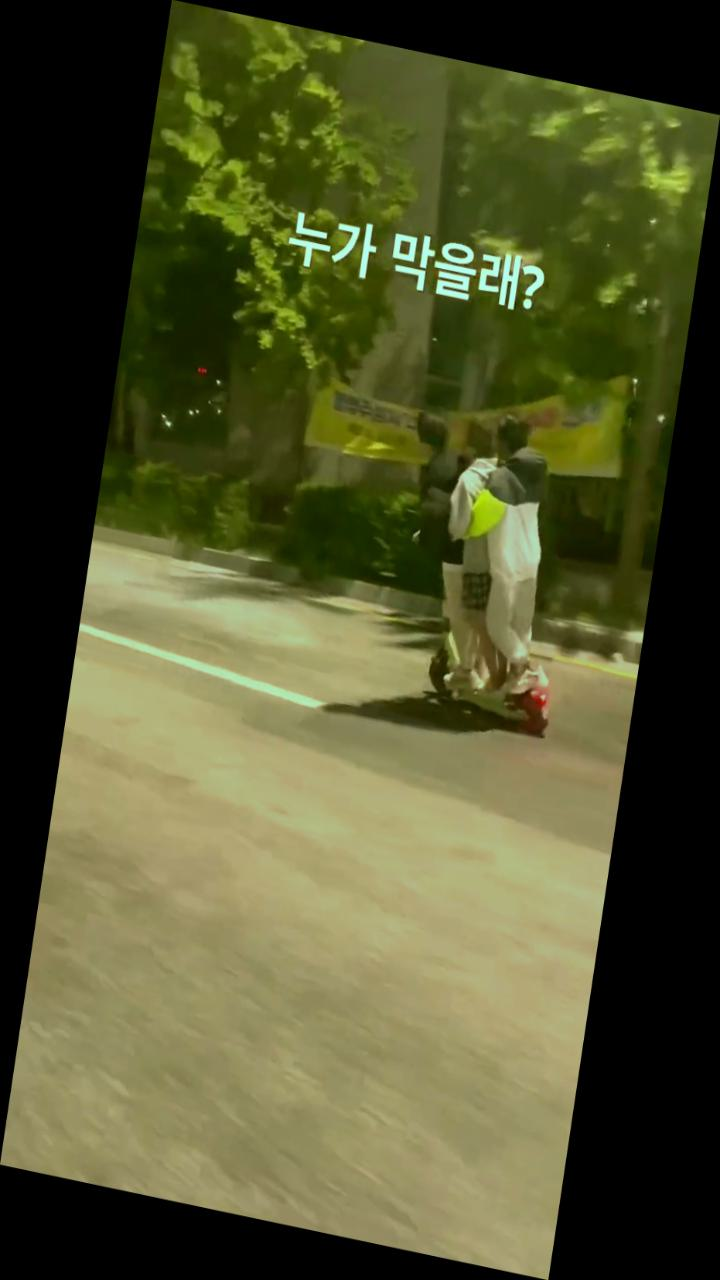multiple: (368, 392, 597, 739)
